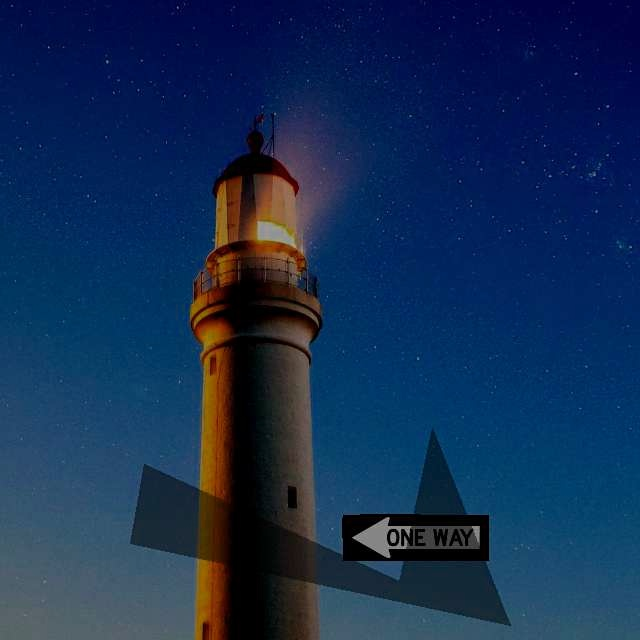ONE_WAY_ left: (342, 514, 489, 561)
